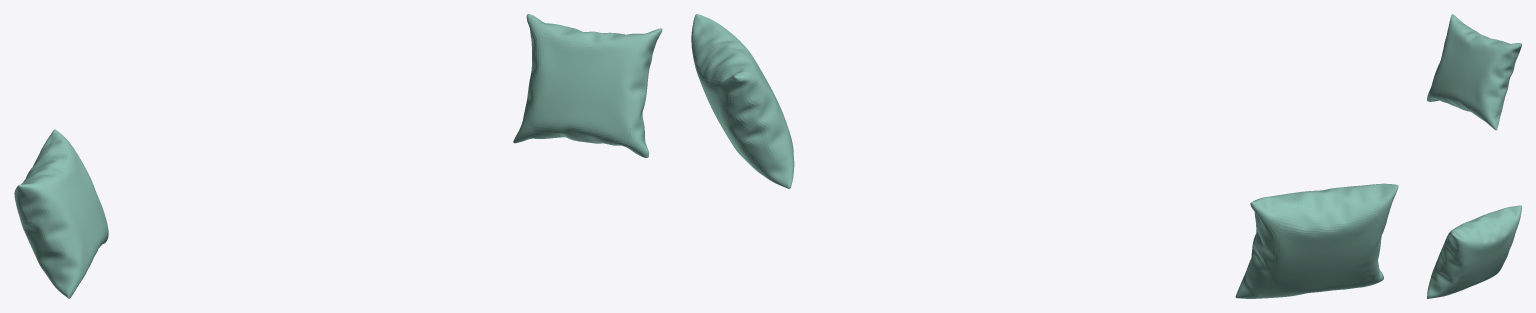
File: SofaSet_Gen_2_Pillow.fbx
3 views of the same model, side by side, from view 1: azimuth 30°, elevation 25°; view 2: azimuth 150°, elevation 25°; view 3: azimuth 270°, elevation 25° (orthographic). The views are drawn at different scales.
Visible parts, largest first — view 1: polySurface46; view 2: polySurface46; view 3: polySurface46.
Boxes of the visible parts, box(x1,y1,x2,y2) form: polySurface46: box(14, 14, 662, 298); polySurface46: box(691, 14, 1398, 298); polySurface46: box(1427, 14, 1521, 298).
Bounding box in the file's own units: 235 × 38.08 × 42.85.
